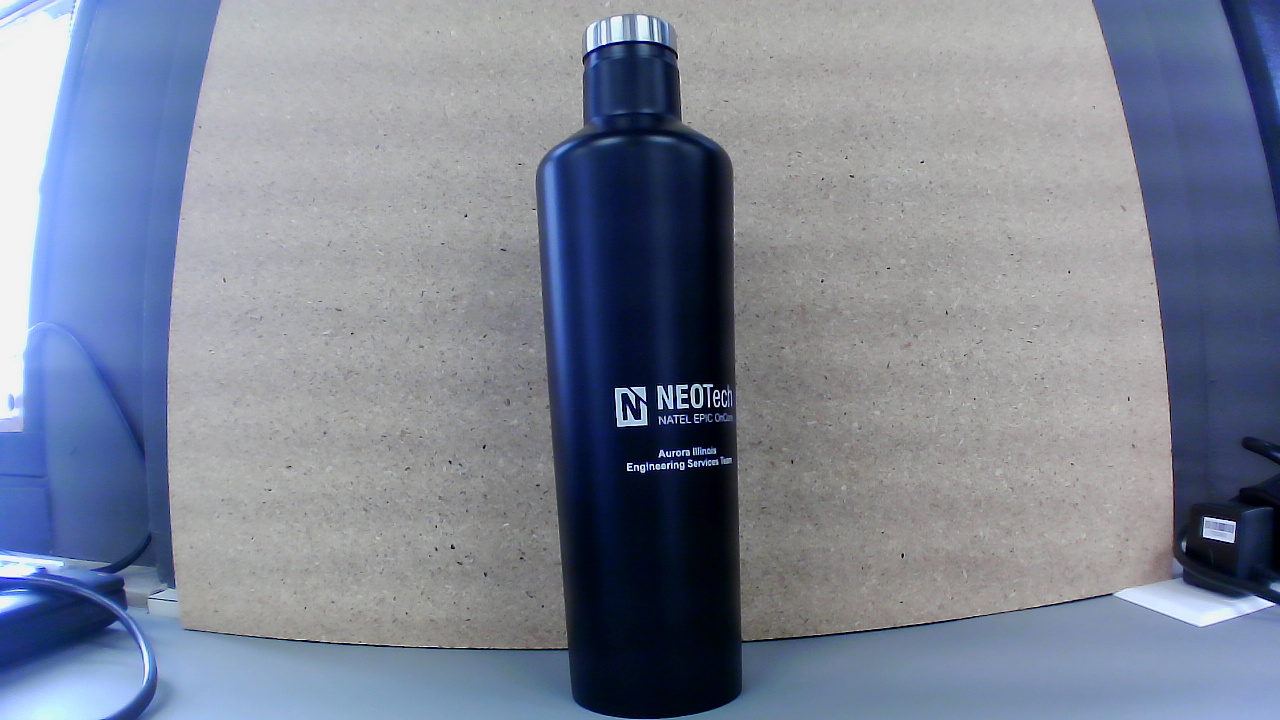neobottle: (528, 13, 763, 719)
